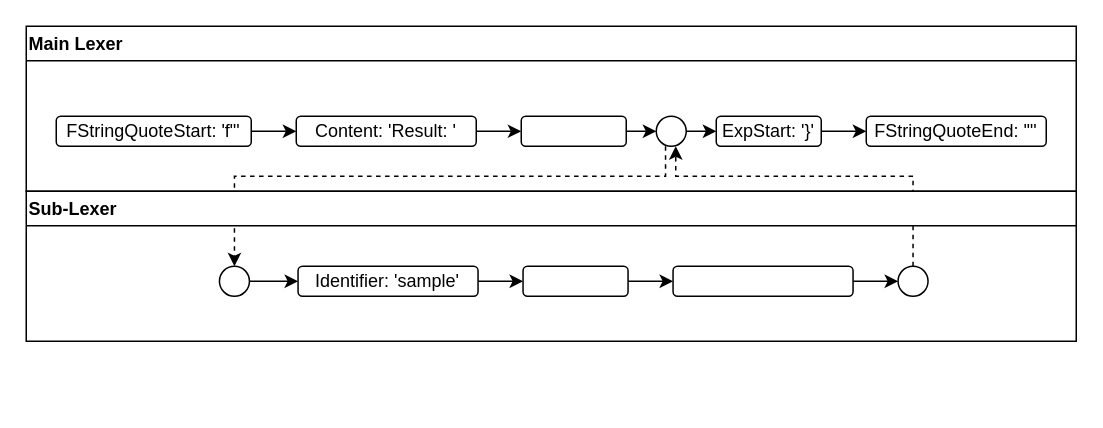
This 1103x428 diagram has some shape labels left out. Each missing label, with the centre of its shape:
ExpStart: '{': (x=573, y=130)
IntegerConstant: '4': (x=762, y=280)
Plus: '+': (x=575, y=280)
